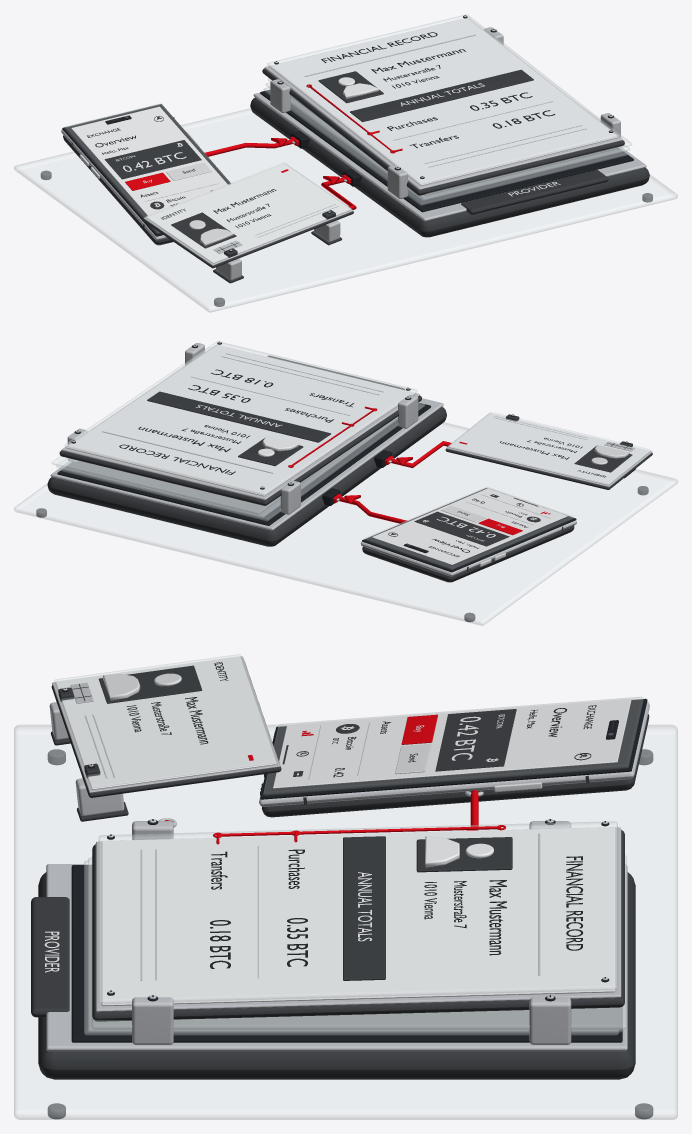
File: account-to-record-en.glb
3 renders of one model, top to bottom at view 1: azimuth 30°, elevation 25°; view 2: azimuth 150°, elevation 25°; view 3: azimuth 270°, elevation 25°, orthographic. The views are drawn at different scales.
Parts seen in each view (by area): view 1: Clear processing and association carrier.001, Annual record optical face.001, Annual record ceramic print backing.001, Identity card optical laminate.001, Neutral white identity card.001, Phone exchange display.001, Provider graphite processing cradle.001, Provider annual dossier recess.001, Individually assembled glass annual-record layer.003, Annual totals graphite header.001, Provider titanium perimeter.001, Annual record graphite substrate.001 (+17 smaller); view 2: Clear processing and association carrier.001, Annual record optical face.001, Annual record ceramic print backing.001, Provider graphite processing cradle.001, Neutral white identity card.001, Identity card optical laminate.001, Provider annual dossier recess.001, Phone exchange display.001, Individually assembled glass annual-record layer.004, Provider titanium perimeter.001, Individually assembled glass annual-record layer.003, Individually assembled glass annual-record layer.005 (+14 smaller); view 3: Annual record optical face.001, Annual record ceramic print backing.001, Clear processing and association carrier.001, Provider graphite processing cradle.001, Neutral white identity card.001, Identity card optical laminate.001, Provider annual dossier recess.001, Phone exchange display.001, Individually assembled glass annual-record layer.004, Provider titanium perimeter.001, Individually assembled glass annual-record layer.005, Annual totals graphite header.001 (+23 smaller).
Part boxes in pixels (x1,y1,x2,y2): Clear processing and association carrier.001: (14,108,677,312); Annual record optical face.001: (267,14,619,184); Annual record ceramic print backing.001: (269,18,617,185); Identity card optical laminate.001: (146,162,351,262); Neutral white identity card.001: (146,164,350,263); Phone exchange display.001: (71,106,227,215); Provider graphite processing cradle.001: (250,97,649,237); Provider annual dossier recess.001: (260,89,633,212); Individually assembled glass annual-record layer.003: (263,87,627,205); Annual totals graphite header.001: (350,69,533,121); Provider titanium perimeter.001: (253,92,646,221); Annual record graphite substrate.001: (262,68,624,195); Clear processing and association carrier.001: (14,422,677,625); Annual record optical face.001: (65,341,416,494); Annual record ceramic print backing.001: (66,345,415,496); Provider graphite processing cradle.001: (47,407,446,546); Neutral white identity card.001: (448,413,650,485); Identity card optical laminate.001: (448,412,650,484); Provider annual dossier recess.001: (57,403,431,525); Phone exchange display.001: (372,488,567,564); Individually assembled glass annual-record layer.004: (56,401,420,517); Provider titanium perimeter.001: (50,398,443,530); Individually assembled glass annual-record layer.003: (61,403,424,520); Individually assembled glass annual-record layer.005: (52,347,324,514); Annual record optical face.001: (99,821,617,1003); Annual record ceramic print backing.001: (101,827,615,1006); Clear processing and association carrier.001: (14,725,677,1119); Provider graphite processing cradle.001: (38,872,635,1079); Neutral white identity card.001: (55,656,276,789); Identity card optical laminate.001: (54,654,276,788); Provider annual dossier recess.001: (71,865,622,1042); Phone exchange display.001: (273,699,631,788); Individually assembled glass annual-record layer.004: (88,858,622,1031); Provider titanium perimeter.001: (46,864,627,1051); Individually assembled glass annual-record layer.005: (92,855,626,1029); Annual totals graphite header.001: (343,836,385,980).
Bounding box in the file's own units: 8.15 × 1.19 × 5.88.
Materials: 3 (3 with a texture image).
